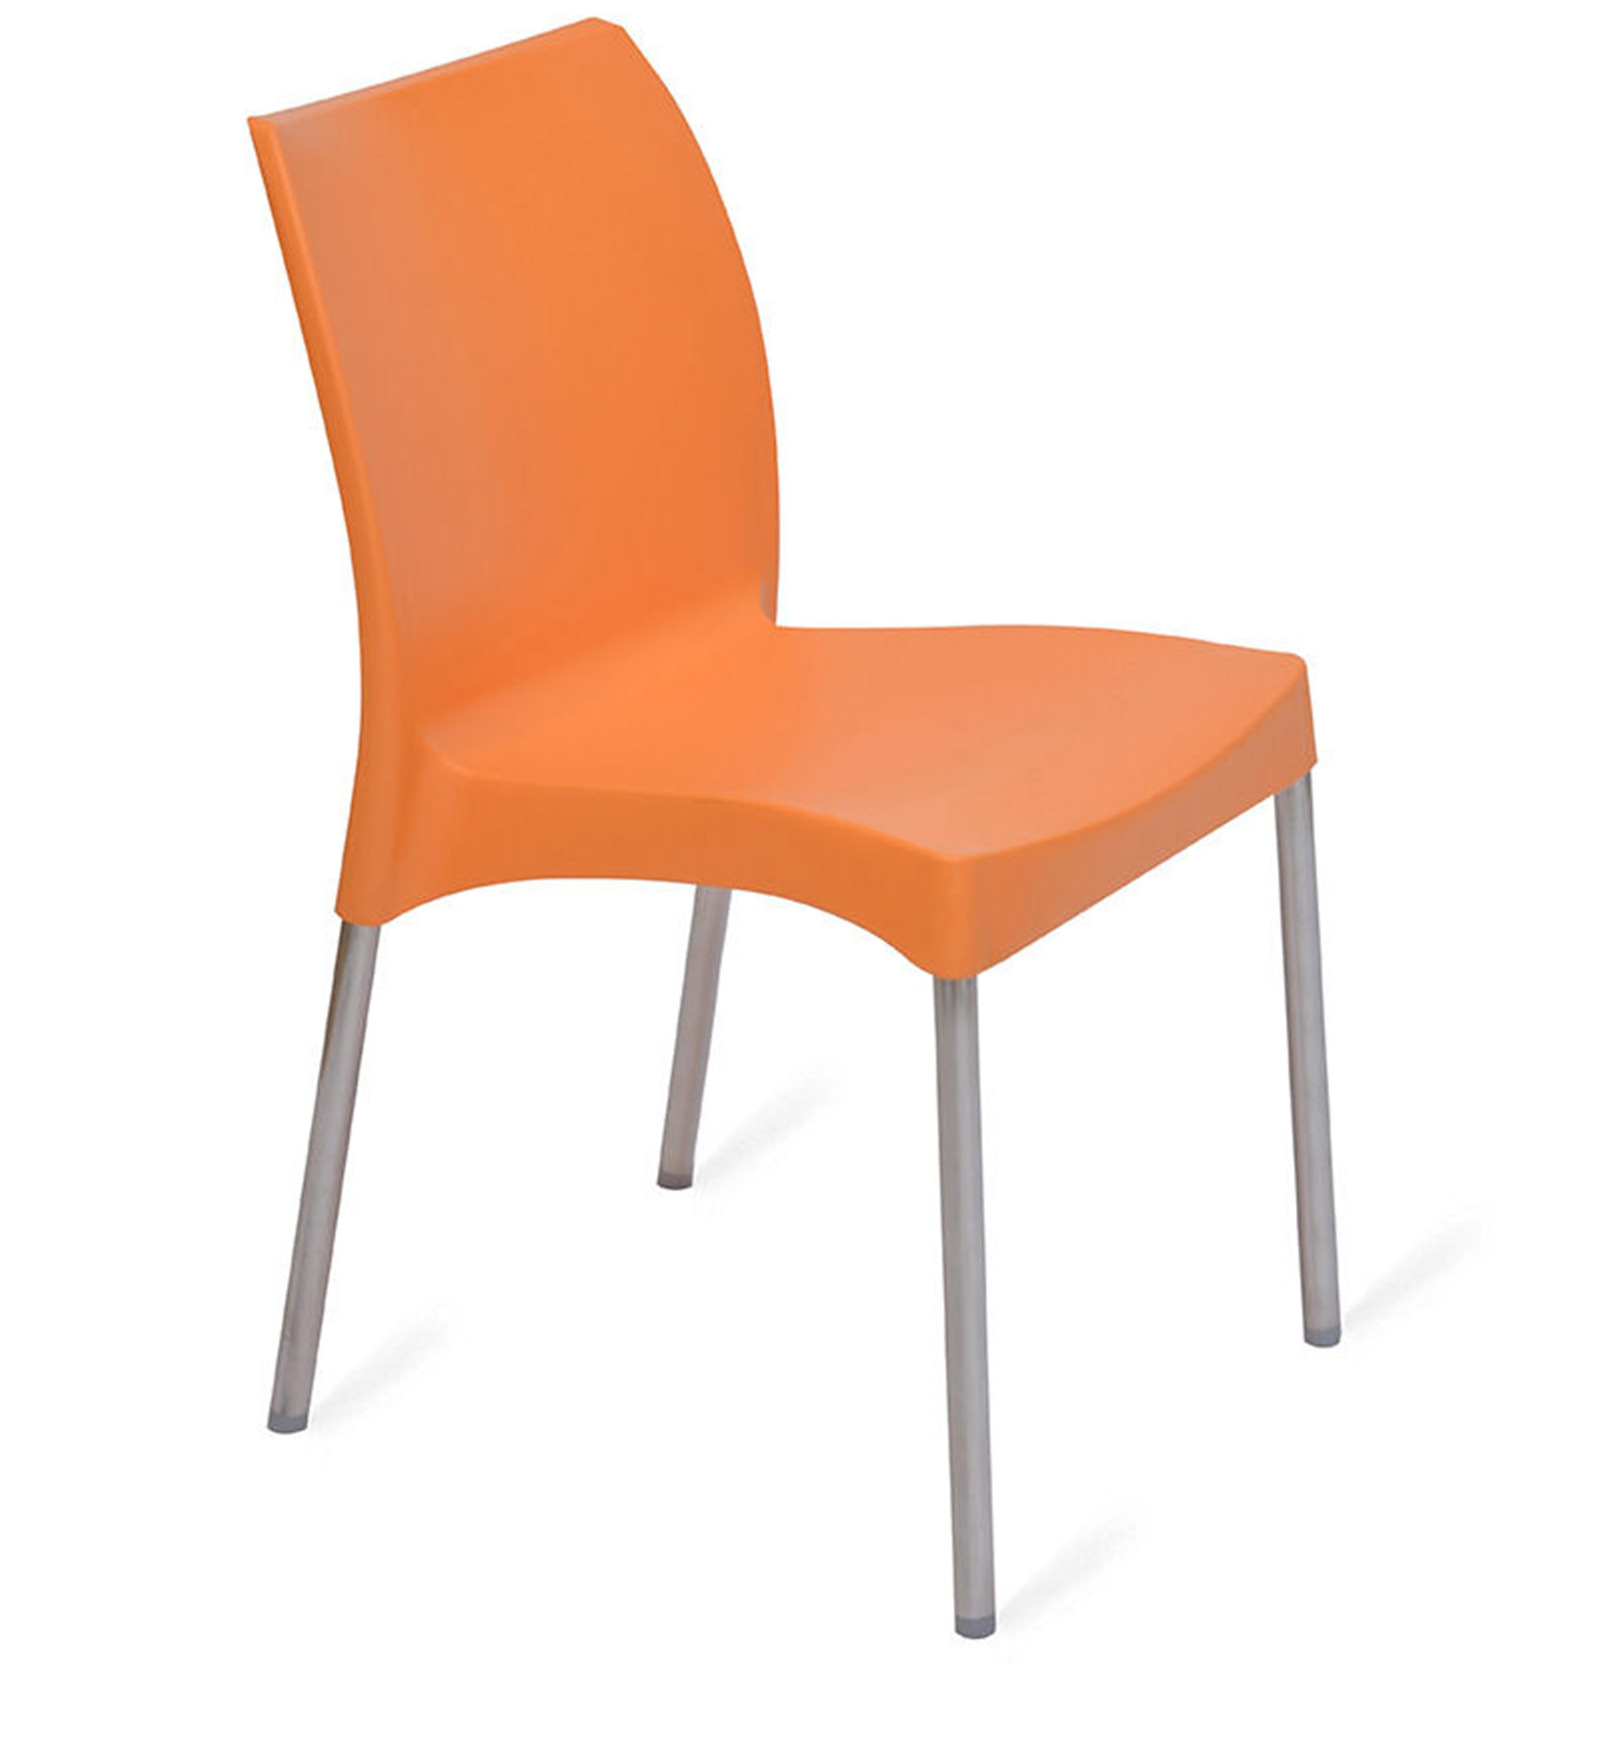Novella Plastic Chair in Orange by Nilkamal: (234, 18, 1349, 1634)
